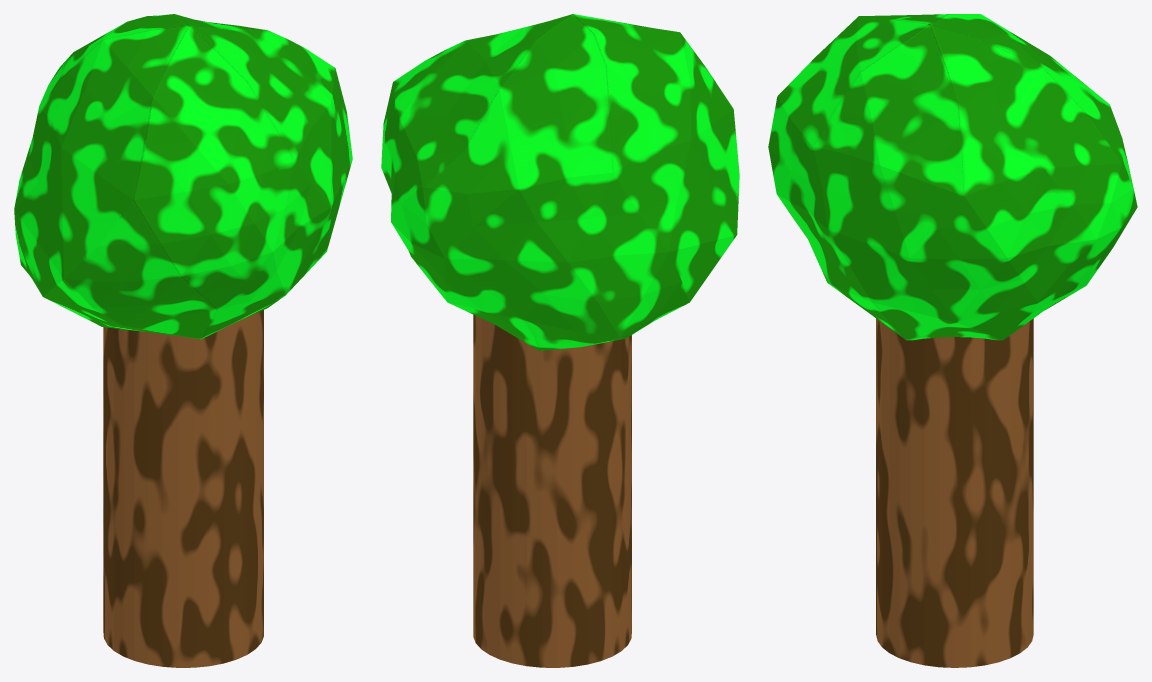
The model's file is tree.glb.
The picture shows the model from 3 angles, left to right: view 1: azimuth 30°, elevation 25°; view 2: azimuth 150°, elevation 25°; view 3: azimuth 270°, elevation 25°; orthographic projection. The views are drawn at different scales.
Parts seen in each view (by area): view 1: Icosphere, Cylinder; view 2: Icosphere, Cylinder; view 3: Icosphere, Cylinder.
Part boxes in pixels (x1,y1,x2,y2): Icosphere: (14, 14, 352, 339); Cylinder: (103, 310, 263, 667); Icosphere: (381, 14, 739, 350); Cylinder: (473, 314, 631, 667); Icosphere: (768, 14, 1137, 340); Cylinder: (876, 318, 1033, 667).
Size of the model in its own units: 4.45 by 8.5 by 4.69.
Materials: 2 (2 with a texture image).
